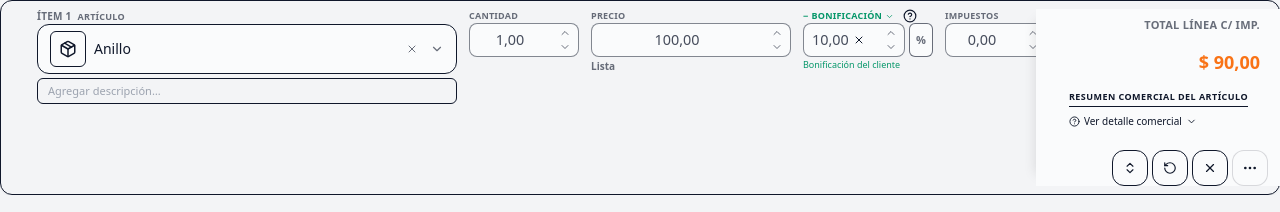
Test: Dropdown Bonificación / Recargo sobre herencia › Escape cierra el menú
The image size is (1280, 212).
Step 1. Click the button "− Bonificación" → point(849, 16), box [803,9,894,23]
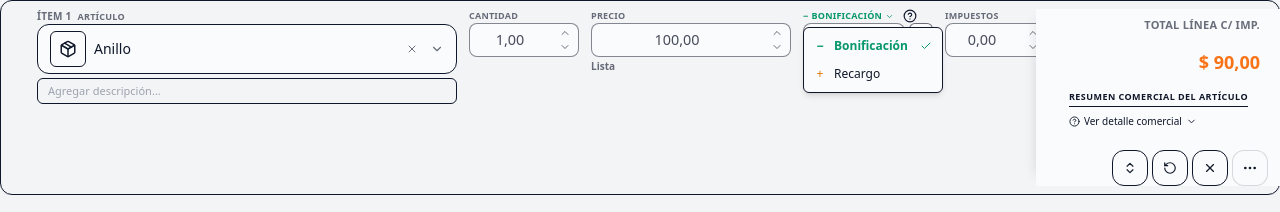
Expected: the menu item "− Bonificación" is shown, [804,32,942,60]
Note: Escape cierra.
Step 2. Press Escape
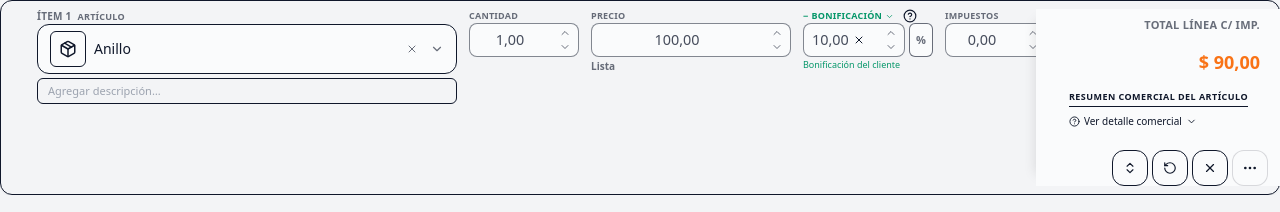
Expected: no menu items are shown
